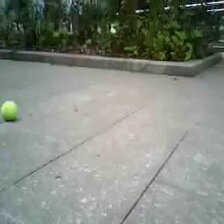tennis: (2, 101, 18, 121)
